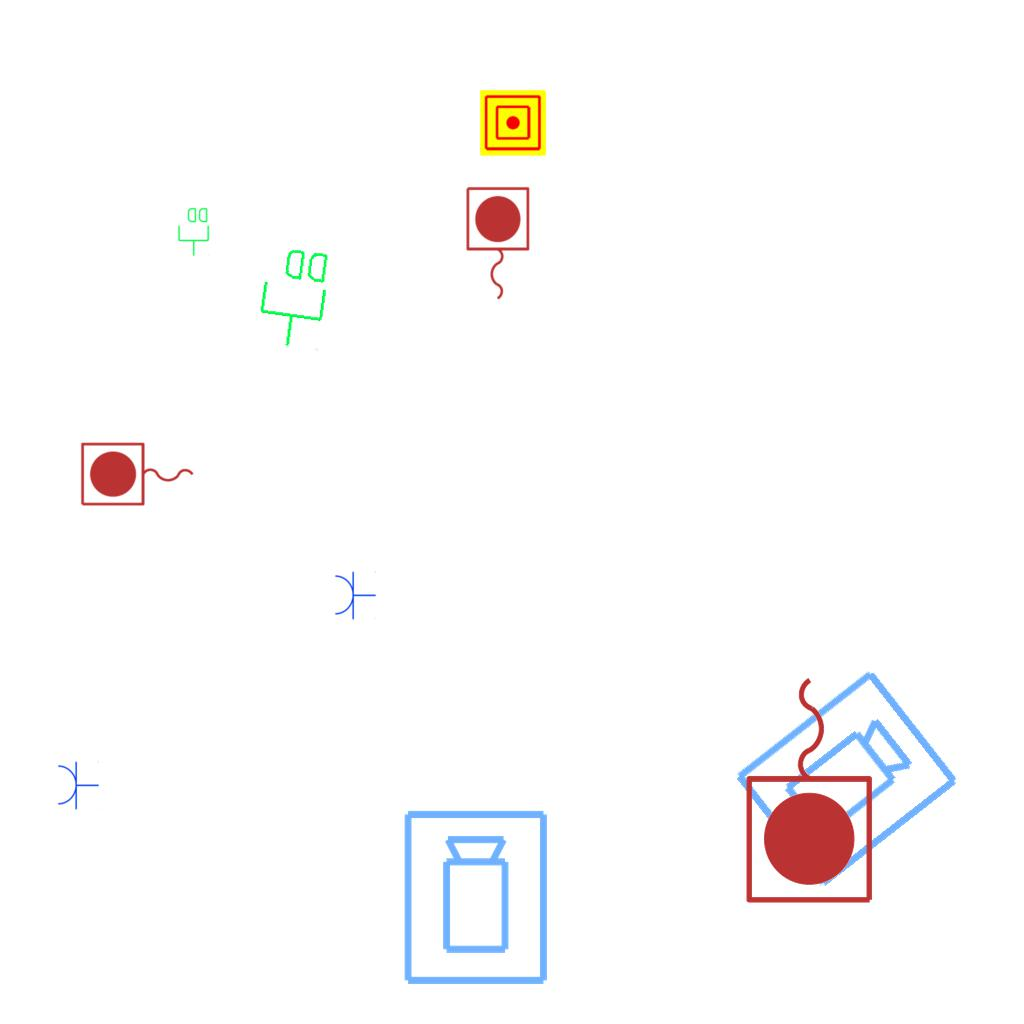Datenanschluss_zweifach: (253, 241, 336, 354), (177, 206, 211, 257)
KFO_Kamera_mit_Festobjektiv: (727, 663, 967, 897), (400, 807, 554, 989)
NAM-Nichtautomatischer_Melder: (480, 90, 546, 156)
Schukosteckdose_einfach: (333, 570, 376, 620), (56, 760, 99, 810)
Zugtaster: (739, 667, 883, 911), (461, 183, 533, 305), (77, 439, 199, 511)
